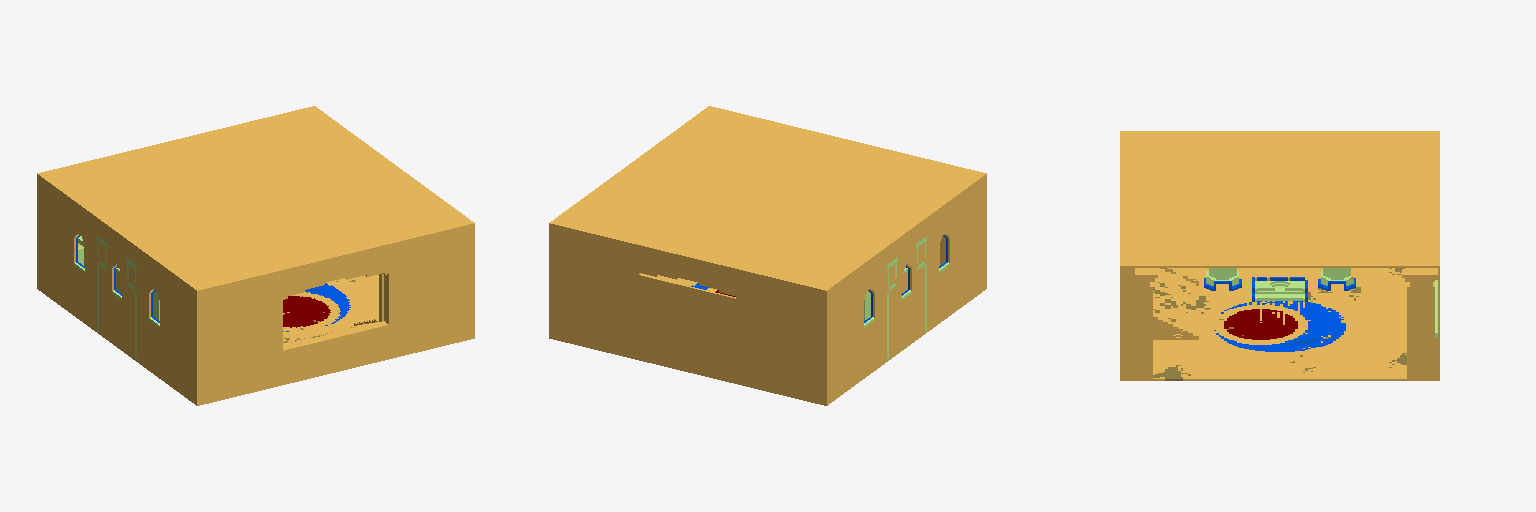
3 renders of one model, left to right at view 1: azimuth 30°, elevation 25°; view 2: azimuth 150°, elevation 25°; view 3: azimuth 270°, elevation 25°, orthographic.
Bounding box in the file's own units: 126 × 50 × 126.
Materials: 1 (1 with a texture image).